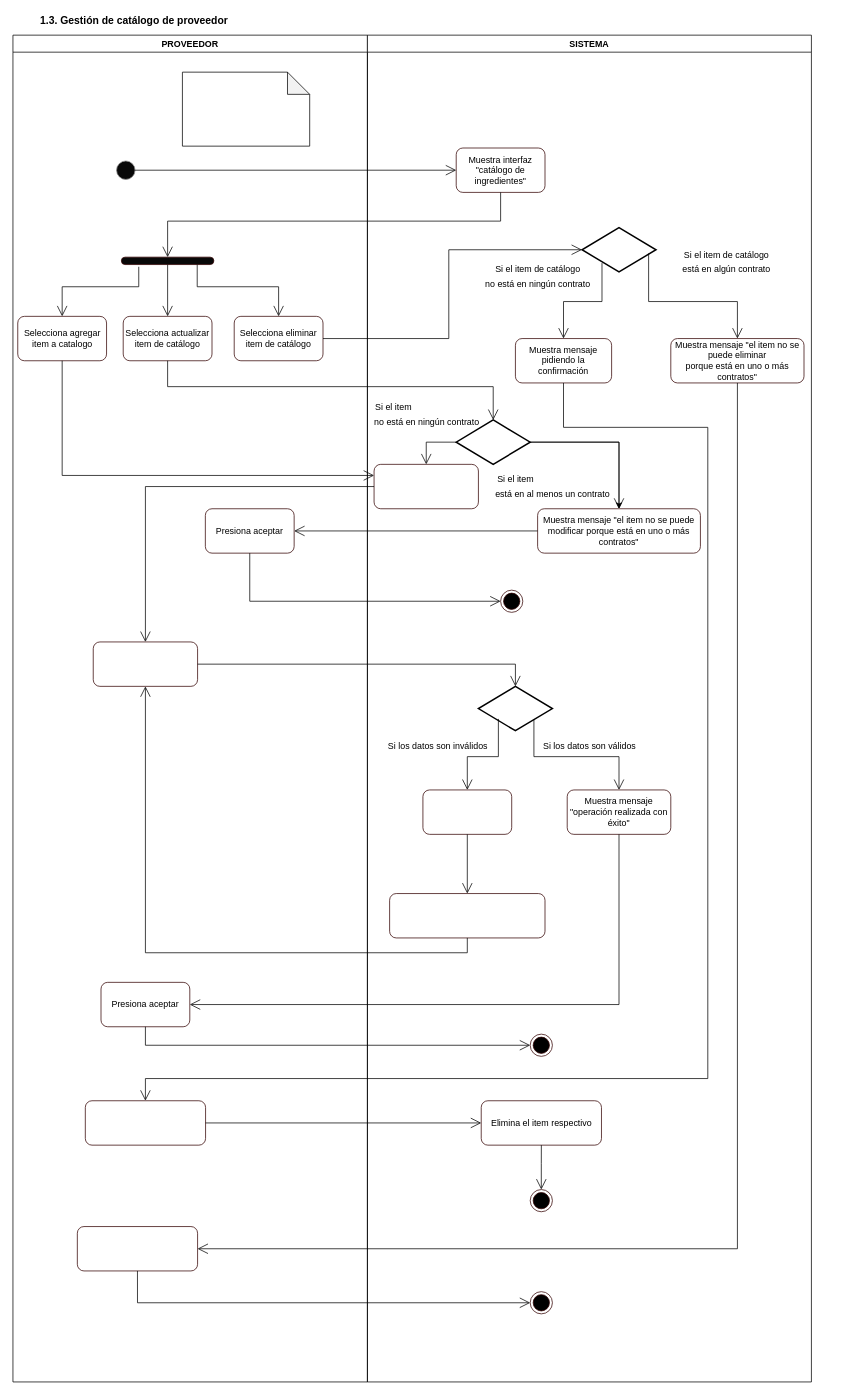
Image size: 854x1395. Some labels were removed from this diagram. Here are the shapes that lost their labels. From the top down, the centre of each, then its label:
[246,108]: Este flujo se inicia cuando el proveedor selecciona catálogo de ingredientes
[425,486]: Muestra interfaz "formulario datos de item catálogo"
[145,663]: Ingresa datos
[467,811]: Muestra mensaje "datos inválidos"
[467,915]: Resalta los datos inválidos y muestra el formato adecuado
[145,1122]: Confirma la realización de la acción
[137,1248]: Confirma la lectura del mensaje
